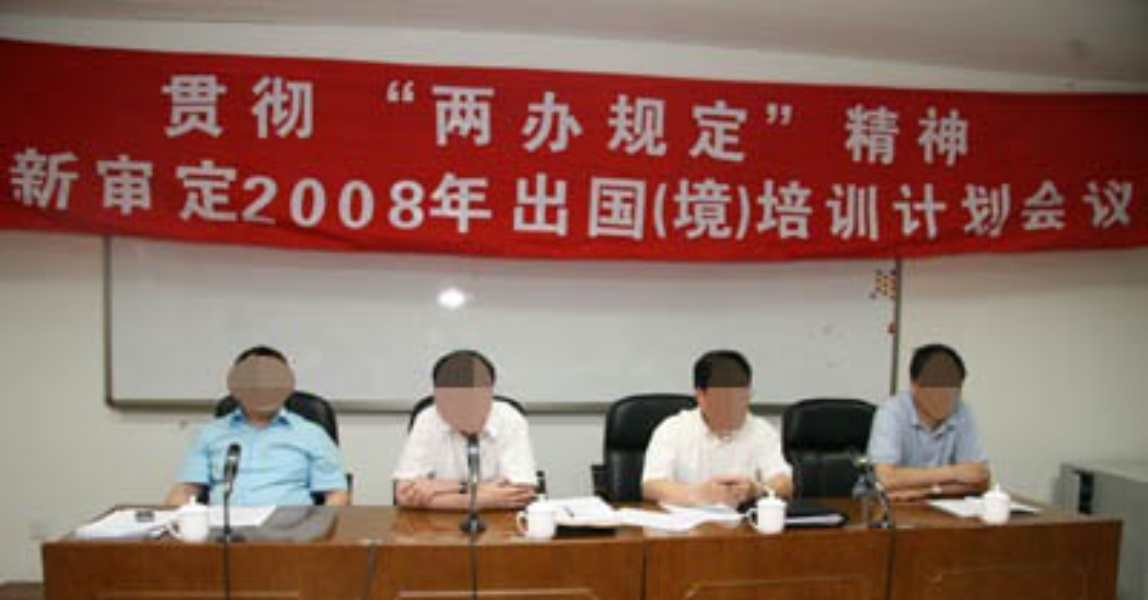text: (17, 150, 32, 250), (33, 150, 48, 250), (49, 150, 64, 250), (65, 150, 80, 250), (81, 150, 96, 250), (97, 150, 112, 250), (113, 150, 128, 250), (129, 150, 144, 250), (145, 150, 160, 250), (161, 150, 176, 250), (177, 150, 192, 250), (193, 150, 208, 250), (209, 150, 224, 250), (225, 150, 240, 250), (241, 150, 256, 250), (257, 150, 272, 250), (273, 150, 288, 250), (289, 150, 304, 250), (305, 150, 320, 250), (321, 150, 336, 250), (337, 150, 352, 250), (353, 150, 368, 250), (369, 150, 384, 250), (385, 150, 400, 250), (401, 150, 416, 250), (417, 150, 432, 250), (433, 150, 448, 250), (449, 150, 464, 250), (465, 150, 480, 250), (481, 150, 496, 250), (497, 150, 512, 250), (513, 150, 528, 250), (529, 150, 544, 250), (545, 150, 560, 250), (561, 150, 576, 250), (577, 150, 592, 250), (593, 150, 608, 250), (609, 150, 624, 250), (625, 150, 640, 250), (641, 150, 656, 250), (657, 150, 672, 250), (673, 150, 688, 250), (689, 150, 704, 250), (705, 150, 720, 250), (721, 150, 736, 250), (737, 150, 752, 250), (753, 150, 768, 250), (769, 150, 784, 250), (785, 150, 800, 250), (801, 150, 816, 250), (817, 150, 832, 250), (833, 150, 848, 250), (849, 150, 864, 250), (865, 150, 880, 250), (881, 150, 896, 250), (897, 150, 912, 250), (913, 150, 928, 250), (929, 150, 944, 250), (945, 150, 960, 250), (961, 150, 976, 250), (977, 150, 992, 250), (993, 150, 1008, 250), (1009, 150, 1024, 250), (1025, 150, 1040, 250), (1041, 150, 1056, 250), (1057, 150, 1072, 250), (1073, 150, 1088, 250), (1089, 150, 1104, 250), (1105, 150, 1120, 250), (1121, 150, 1136, 250), (161, 75, 176, 170), (177, 75, 192, 170), (193, 75, 208, 170), (209, 75, 224, 170), (225, 75, 240, 170), (241, 75, 256, 170), (257, 75, 272, 170), (273, 75, 288, 170), (289, 75, 304, 170), (305, 75, 320, 170), (321, 75, 336, 170), (337, 75, 352, 170), (353, 75, 368, 170), (369, 75, 384, 170), (385, 75, 400, 170), (401, 75, 416, 170), (417, 75, 432, 170), (433, 75, 448, 170), (449, 75, 464, 170), (465, 75, 480, 170), (481, 75, 496, 170), (497, 75, 512, 170), (513, 75, 528, 170), (529, 75, 544, 170), (545, 75, 560, 170), (561, 75, 576, 170), (577, 75, 592, 170), (593, 75, 608, 170), (609, 75, 624, 170), (625, 75, 640, 170), (641, 75, 656, 170), (657, 75, 672, 170), (673, 75, 688, 170), (689, 75, 704, 170), (705, 75, 720, 170), (721, 75, 736, 170), (737, 75, 752, 170), (753, 75, 768, 170), (769, 75, 784, 170), (785, 75, 800, 170), (801, 75, 816, 170), (817, 75, 832, 170), (833, 75, 848, 170), (849, 75, 864, 170), (865, 75, 880, 170), (881, 75, 896, 170), (897, 75, 912, 170), (913, 75, 928, 170), (929, 75, 944, 170), (945, 75, 960, 170), (961, 75, 976, 170), (9, 150, 16, 250), (977, 75, 982, 170), (1137, 150, 1140, 250), (158, 75, 160, 170)
